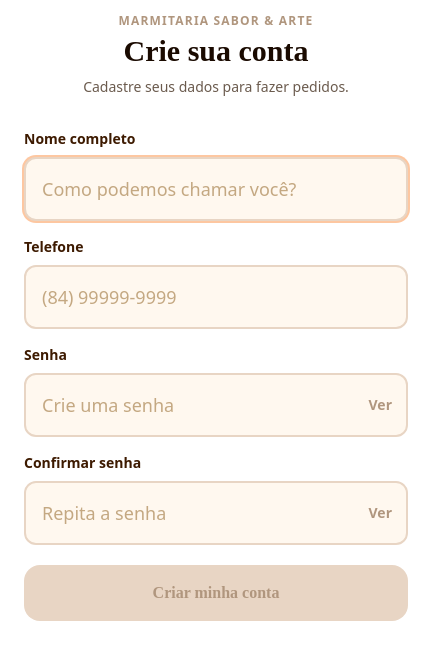
Test: ClientRegisterPage › mostra mensagem genérica em outros erros HTTP do cadastro
The width and height of the screenshot is (433, 645).
Type "Maria Silva" into the field labelled "Nome completo" at (216, 189), box x1=24 y1=157 x2=408 y2=221
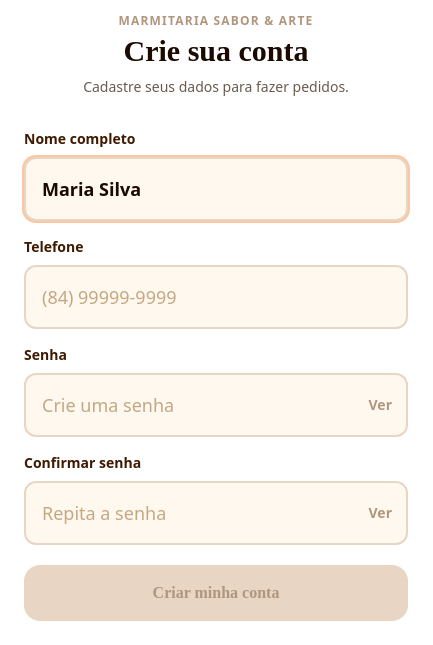
Type "84999999999" into the field labelled "Telefone" at (216, 297), box x1=24 y1=265 x2=408 y2=329
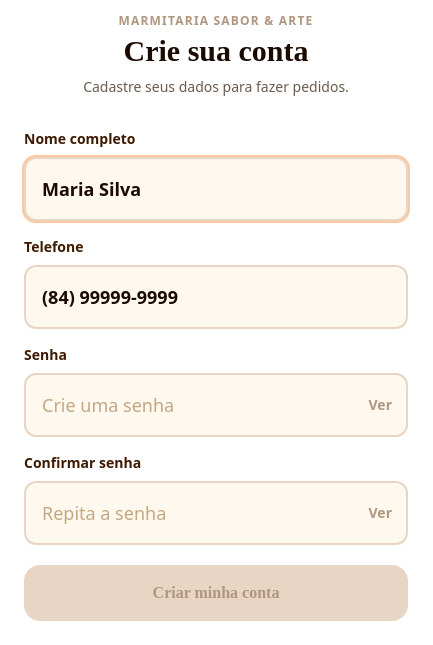
Type "12345678" into the password field labelled "Senha" at (216, 405), box x1=24 y1=373 x2=408 y2=437
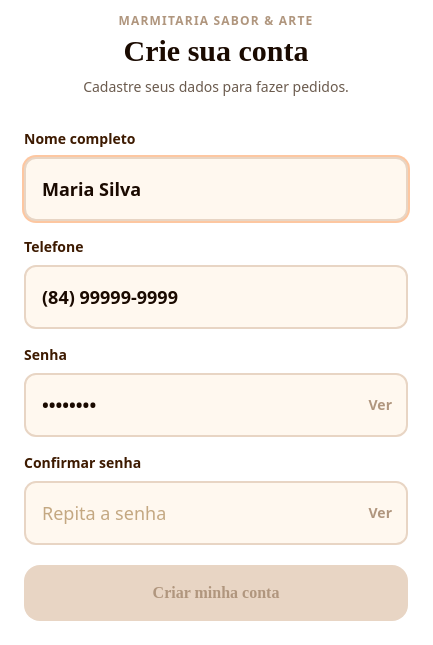
Type "12345678" into the password field labelled "Confirmar senha" at (216, 513), box x1=24 y1=481 x2=408 y2=545
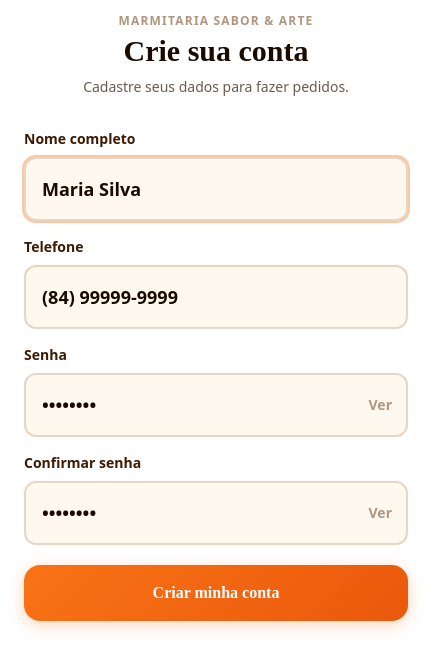
Expected: the button "Criar minha conta" is enabled
Click the button "Criar minha conta" at (216, 593), box x1=24 y1=565 x2=408 y2=621
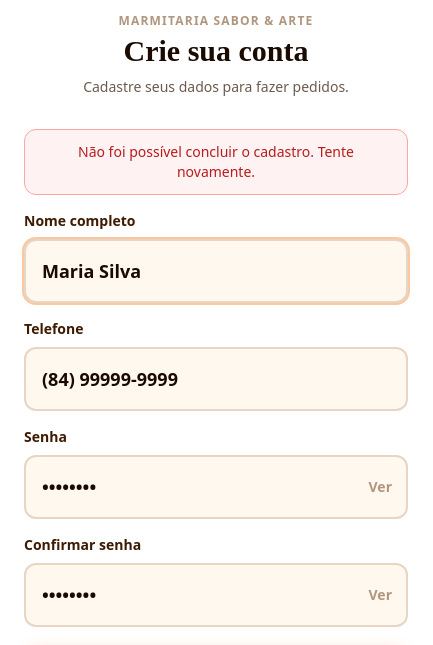
Expected: the text "Não foi possível concluir o cadastro. Tente novamente." is shown, x1=24 y1=129 x2=408 y2=195
